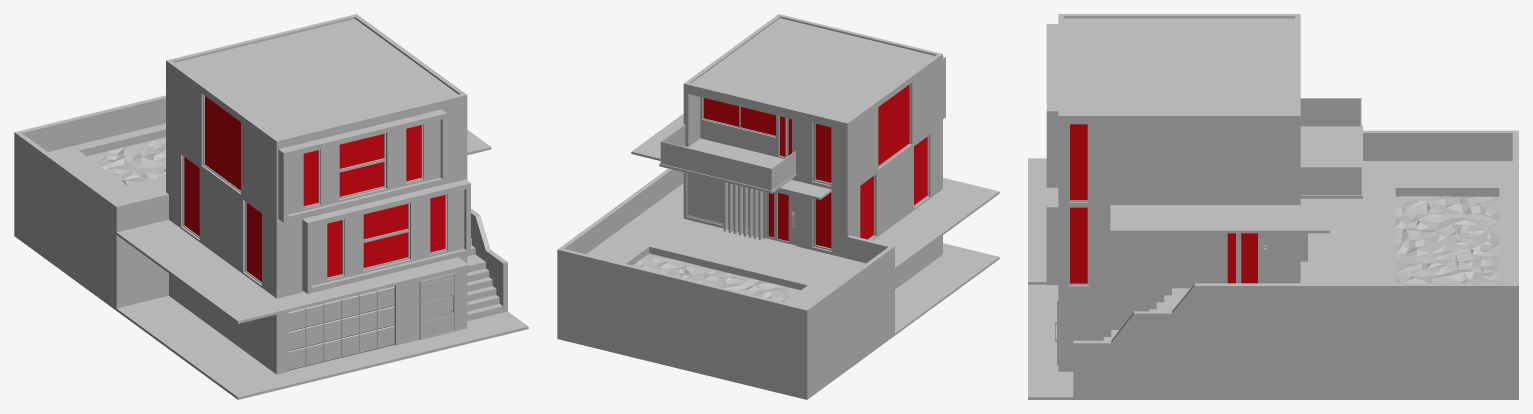
File: SM_cottage_03.gltf
The picture shows the model from 3 angles, left to right: view 1: azimuth 30°, elevation 25°; view 2: azimuth 150°, elevation 25°; view 3: azimuth 270°, elevation 25°; orthographic projection. The views are drawn at different scales.
Parts seen in each view (by area): view 1: cottage_03; view 2: cottage_03; view 3: cottage_03.
Boxes of the visible parts, box(x1,y1,x2,y2) form: cottage_03: box(14, 14, 528, 399); cottage_03: box(557, 14, 999, 399); cottage_03: box(1028, 14, 1518, 399).
Size of the model in its own units: 12 by 9.3 by 16.
